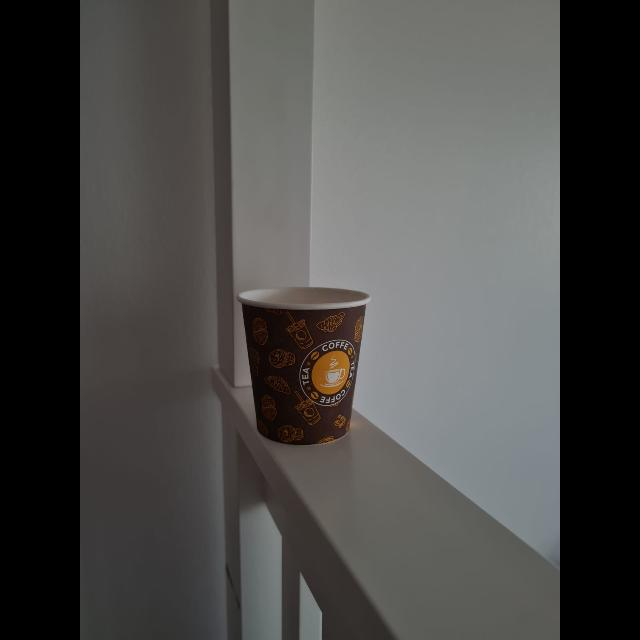trash: (235, 282, 369, 446)
